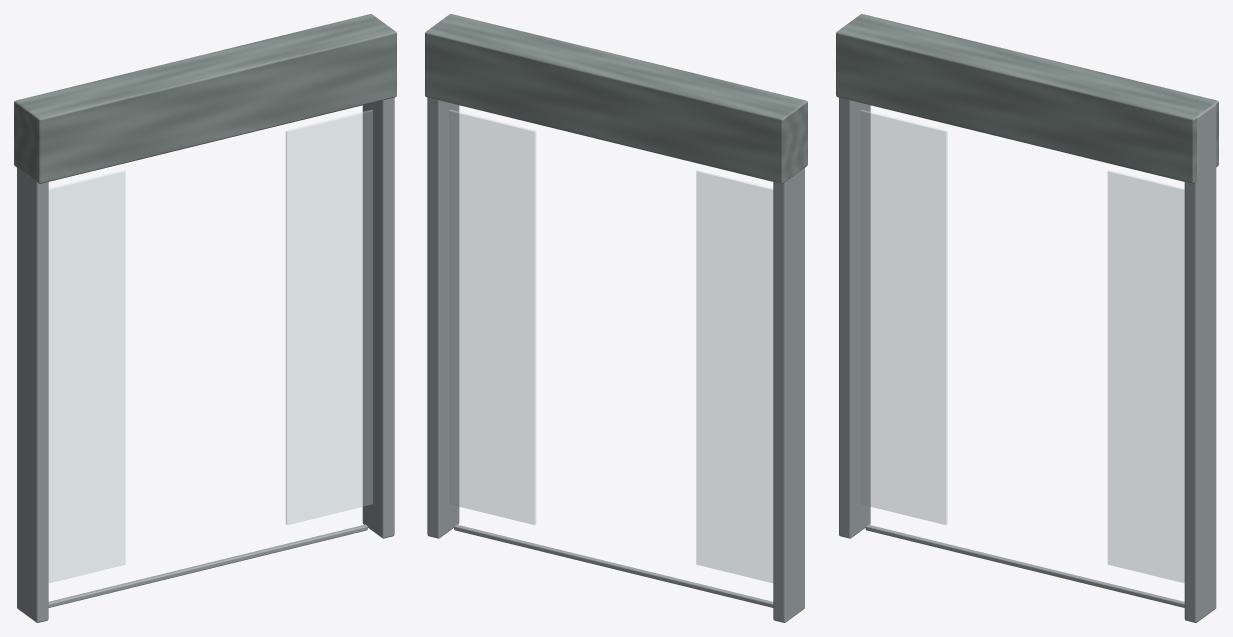
File: liminal-spaces-kit-empty-storefront-4e9b1cfa__25261.glb
3 renders of one model, left to right at view 1: azimuth 30°, elevation 25°; view 2: azimuth 150°, elevation 25°; view 3: azimuth 330°, elevation 25°, orthographic.
Parts seen in each view (by area): view 1: empty-storefront; view 2: empty-storefront; view 3: empty-storefront.
Part boxes in pixels (x1=…): empty-storefront: x1=14, y1=14, x2=396, y2=622; empty-storefront: x1=425, y1=14, x2=807, y2=622; empty-storefront: x1=836, y1=14, x2=1218, y2=622.
Bounding box in the file's own units: 2 × 2.7 × 0.25.
3 materials, 1 textured.
